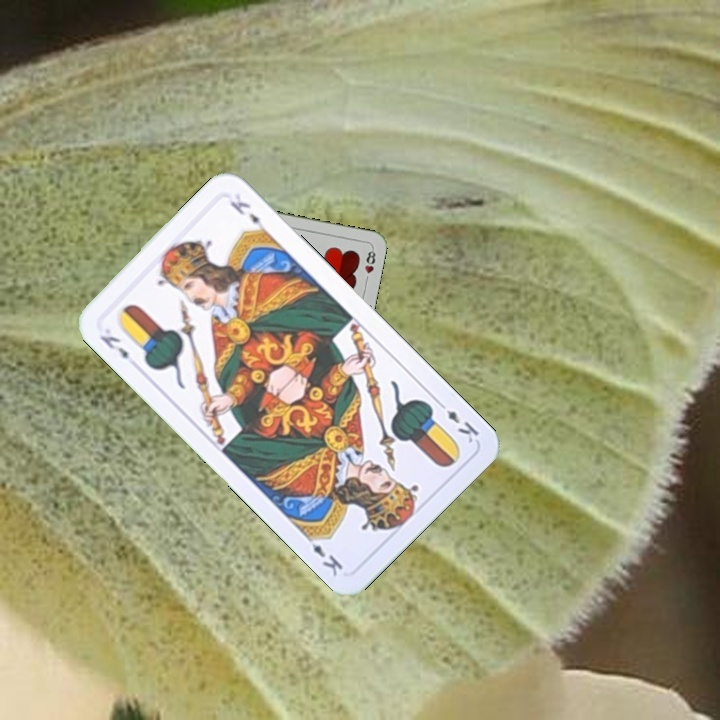EK: (432, 396, 482, 446), (95, 331, 132, 362)
